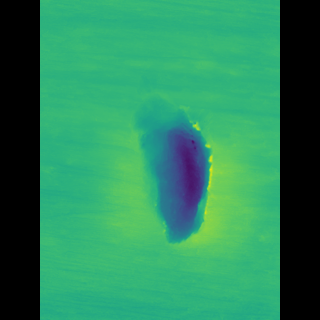Loch: (132, 69, 205, 244)
